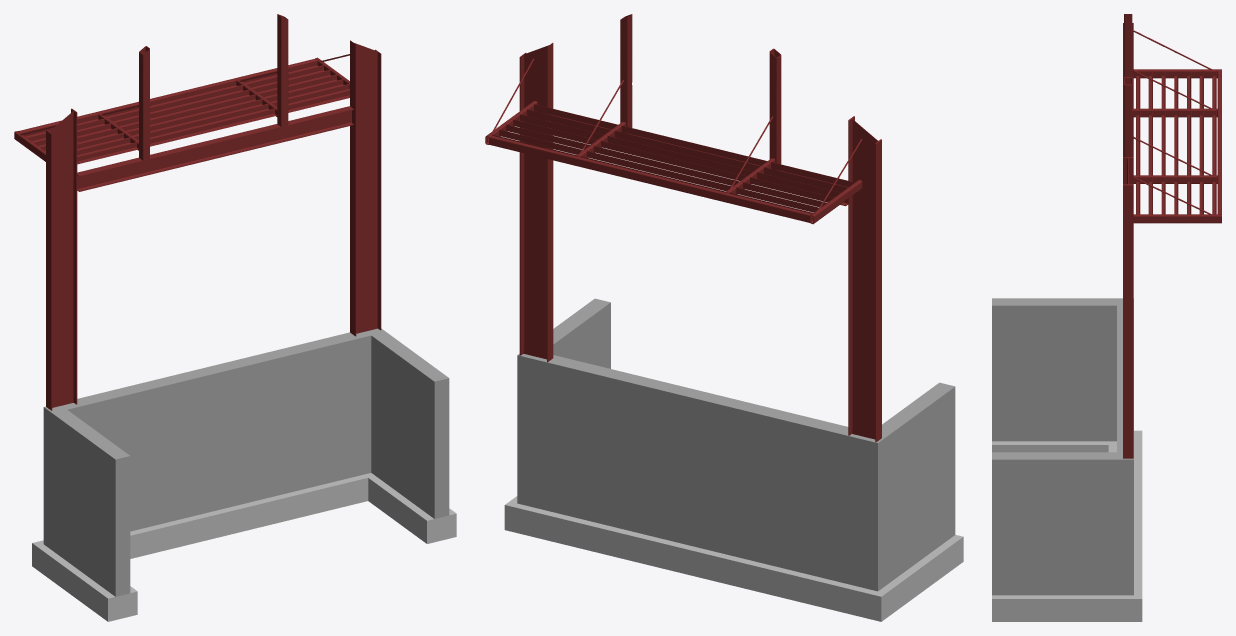
Rendered from trellis-gltf-colors.glb.
The picture shows the model from 3 angles, left to right: view 1: azimuth 30°, elevation 25°; view 2: azimuth 150°, elevation 25°; view 3: azimuth 270°, elevation 25°; orthographic projection. The views are drawn at different scales.
Visible parts, largest first — view 1: Wall Walls <3043714 CIP_8" Concrete<, Wall Walls <3043584 CIP_8" Concrete<, Wall Walls <3043829 CIP_8" Concrete<, FamilyInstance Structural Columns W Shapes-Column <3093013 W, FamilyInstance Structural Columns W Shapes-Column <3092880 W, WallFoundation Structural Foundations <3074526 FC16<, FamilyInstance Structural Framing W Shapes <3168509 W8x15<, WallFoundation Structural Foundations <3074525 FC16<, WallFoundation Structural Foundations <3074527 FC16<, FamilyInstance Structural Columns HSS Square-Column <3167507, FamilyInstance Structural Columns HSS Square-Column <3167444, FamilyInstance Structural Framing L Unequal Angles <3213447  (+7 smaller); view 2: Wall Walls <3043714 CIP_8" Concrete<, Wall Walls <3043584 CIP_8" Concrete<, WallFoundation Structural Foundations <3074526 FC16<, FamilyInstance Structural Columns W Shapes-Column <3093013 W, FamilyInstance Structural Columns W Shapes-Column <3092880 W, FamilyInstance Structural Framing HSS Rectangular <3062663 H, Wall Walls <3043829 CIP_8" Concrete<, WallFoundation Structural Foundations <3074525 FC16<, FamilyInstance Structural Columns HSS Square-Column <3167444, FamilyInstance Structural Columns HSS Square-Column <3167507, FamilyInstance Structural Framing L Unequal Angles <3188974 , FamilyInstance Structural Framing L Unequal Angles <3188977  (+5 smaller); view 3: Wall Walls <3043584 CIP_8" Concrete<, Wall Walls <3043829 CIP_8" Concrete<, WallFoundation Structural Foundations <3074527 FC16<, Wall Walls <3043714 CIP_8" Concrete<, FamilyInstance Structural Columns W Shapes-Column <3092880 W, WallFoundation Structural Foundations <3074526 FC16<, WallFoundation Structural Foundations <3074525 FC16<, FamilyInstance Structural Framing HSS Rectangular <3062687 H, FamilyInstance Structural Framing HSS Rectangular <3186543 H, FamilyInstance Structural Framing HSS Rectangular <3062648 H, FamilyInstance Structural Columns HSS Square-Column <3167507, FamilyInstance Structural Framing HSS Rectangular <3062663 H (+3 smaller).
Part boxes in pixels (<box>): Wall Walls <3043714 CIP_8" Concrete<: <box>62,328,385,531</box>; Wall Walls <3043584 CIP_8" Concrete<: <box>43,405,130,596</box>; Wall Walls <3043829 CIP_8" Concrete<: <box>371,332,449,518</box>; FamilyInstance Structural Columns W Shapes-Column <3093013 W: <box>46,108,77,410</box>; FamilyInstance Structural Columns W Shapes-Column <3092880 W: <box>350,40,381,336</box>; WallFoundation Structural Foundations <3074526 FC16<: <box>33,473,370,558</box>; FamilyInstance Structural Framing W Shapes <3168509 W8x15<: <box>77,106,353,191</box>; WallFoundation Structural Foundations <3074525 FC16<: <box>32,543,137,621</box>; WallFoundation Structural Foundations <3074527 FC16<: <box>368,473,456,543</box>; FamilyInstance Structural Columns HSS Square-Column <3167507: <box>277,14,288,126</box>; FamilyInstance Structural Columns HSS Square-Column <3167444: <box>139,46,149,160</box>; FamilyInstance Structural Framing L Unequal Angles <3213447 : <box>150,108,276,146</box>; Wall Walls <3043714 CIP_8" Concrete<: <box>517,354,864,587</box>; Wall Walls <3043584 CIP_8" Concrete<: <box>862,382,955,591</box>; WallFoundation Structural Foundations <3074526 FC16<: <box>504,503,881,621</box>; FamilyInstance Structural Columns W Shapes-Column <3093013 W: <box>848,116,881,442</box>; FamilyInstance Structural Columns W Shapes-Column <3092880 W: <box>519,43,553,362</box>; FamilyInstance Structural Framing HSS Rectangular <3062663 H: <box>489,135,811,222</box>; Wall Walls <3043829 CIP_8" Concrete<: <box>553,298,610,368</box>; WallFoundation Structural Foundations <3074525 FC16<: <box>878,535,963,621</box>; FamilyInstance Structural Columns HSS Square-Column <3167444: <box>769,48,781,170</box>; FamilyInstance Structural Columns HSS Square-Column <3167507: <box>620,14,632,134</box>; FamilyInstance Structural Framing L Unequal Angles <3188974 : <box>586,150,730,191</box>; FamilyInstance Structural Framing L Unequal Angles <3188977 : <box>606,135,753,175</box>; Wall Walls <3043584 CIP_8" Concrete<: <box>992,298,1133,441</box>; Wall Walls <3043829 CIP_8" Concrete<: <box>992,452,1116,595</box>; WallFoundation Structural Foundations <3074527 FC16<: <box>992,595,1142,621</box>; Wall Walls <3043714 CIP_8" Concrete<: <box>1117,305,1133,595</box>; FamilyInstance Structural Columns W Shapes-Column <3092880 W: <box>1123,157,1133,458</box>; WallFoundation Structural Foundations <3074526 FC16<: <box>1108,431,1142,598</box>; WallFoundation Structural Foundations <3074525 FC16<: <box>992,430,1141,452</box>; FamilyInstance Structural Framing HSS Rectangular <3062687 H: <box>1133,214,1221,223</box>; FamilyInstance Structural Framing HSS Rectangular <3186543 H: <box>1132,108,1217,117</box>; FamilyInstance Structural Framing HSS Rectangular <3062648 H: <box>1133,69,1221,78</box>; FamilyInstance Structural Columns HSS Square-Column <3167507: <box>1124,77,1132,157</box>; FamilyInstance Structural Framing HSS Rectangular <3062663 H: <box>1217,71,1221,214</box>.
Bounding box in the file's own units: 15.67 × 21.37 × 9.04.
